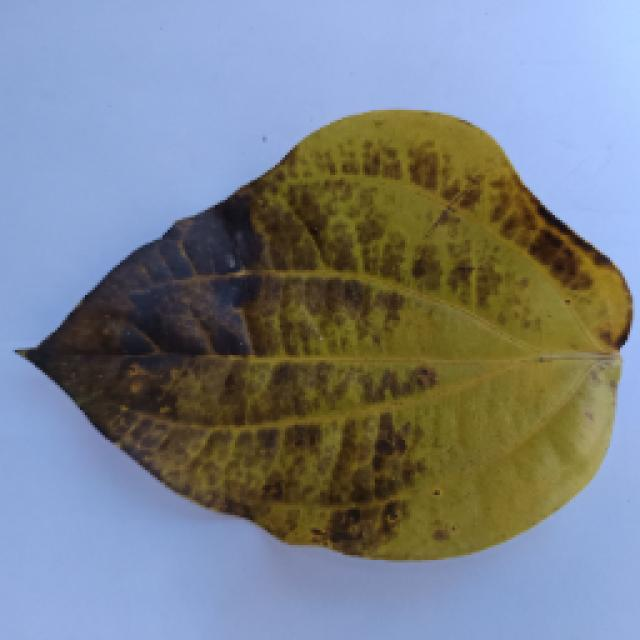slow-decline: (2, 115, 618, 573)
